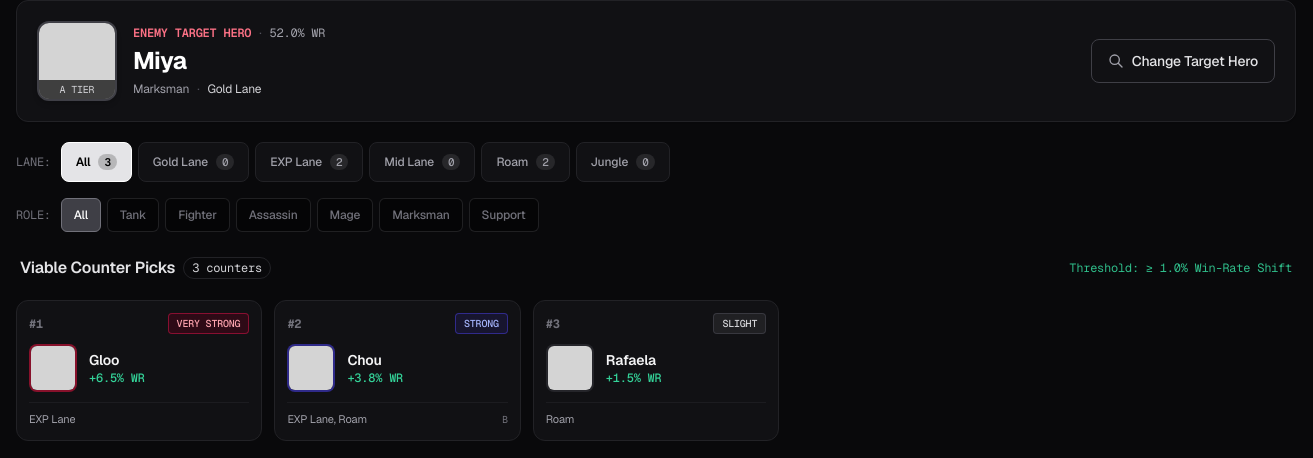
Test: CounterView Component › filters viable counters by lane correctly
Note: Click "Roam" lane tab
Click the button with test id "counter-lane-tab-roam": (526,162) [482,142,570,182]
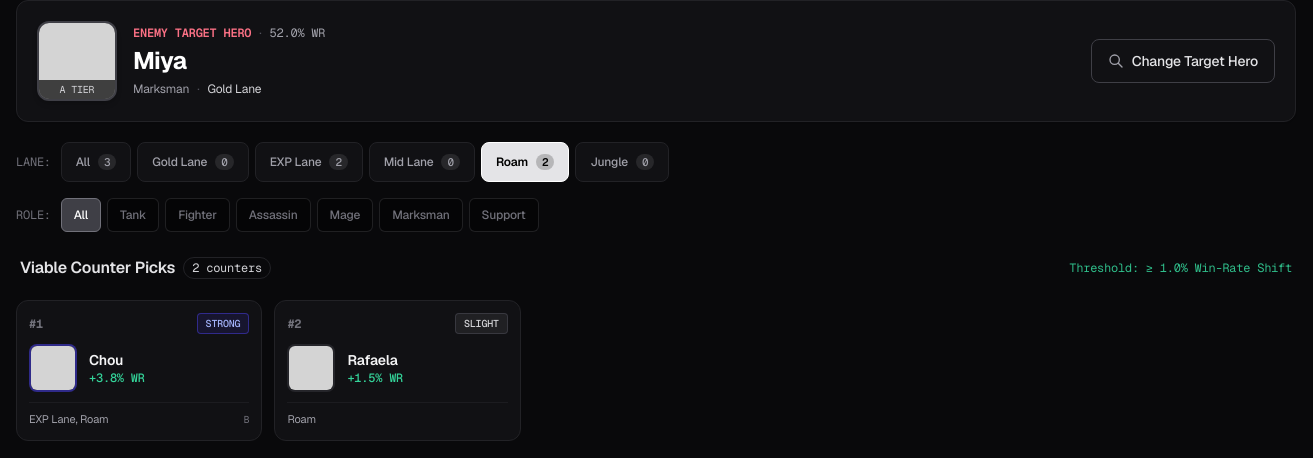
Expected: the text "Chou" is shown, [89,351,123,369]
Now the text "Gloo" is gone
